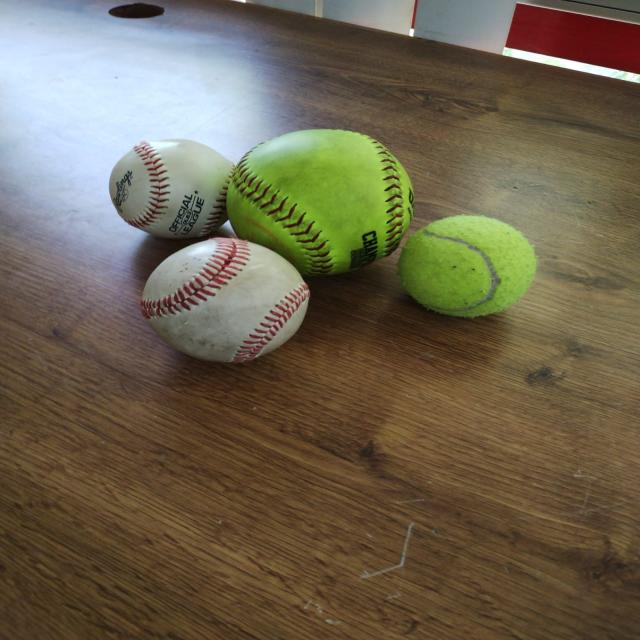beisbol ball: (140, 238, 311, 362), (109, 139, 235, 239)
softball ball: (224, 129, 414, 277)
tenis ball: (396, 214, 539, 317)
